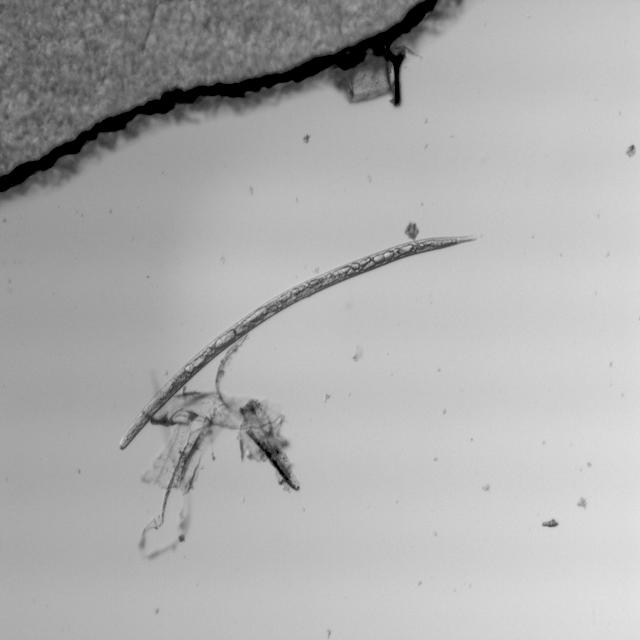Radopholus: (111, 233, 487, 455)
